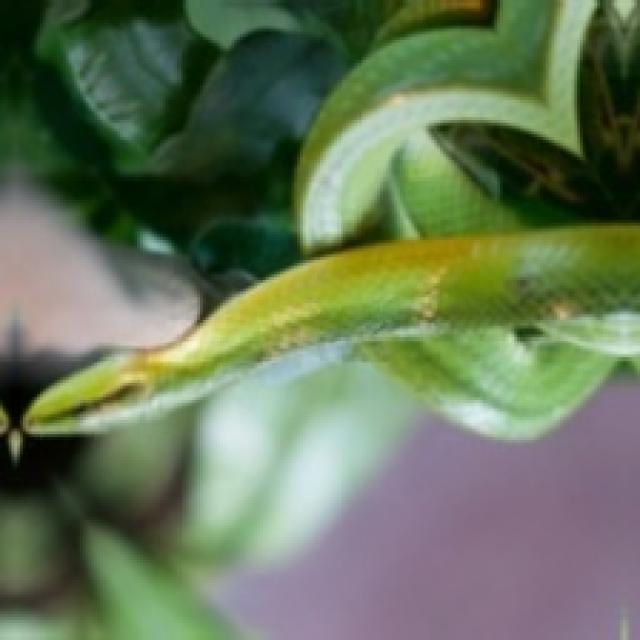red-tailed green ratsnake: (23, 0, 637, 434), (23, 226, 637, 431)
